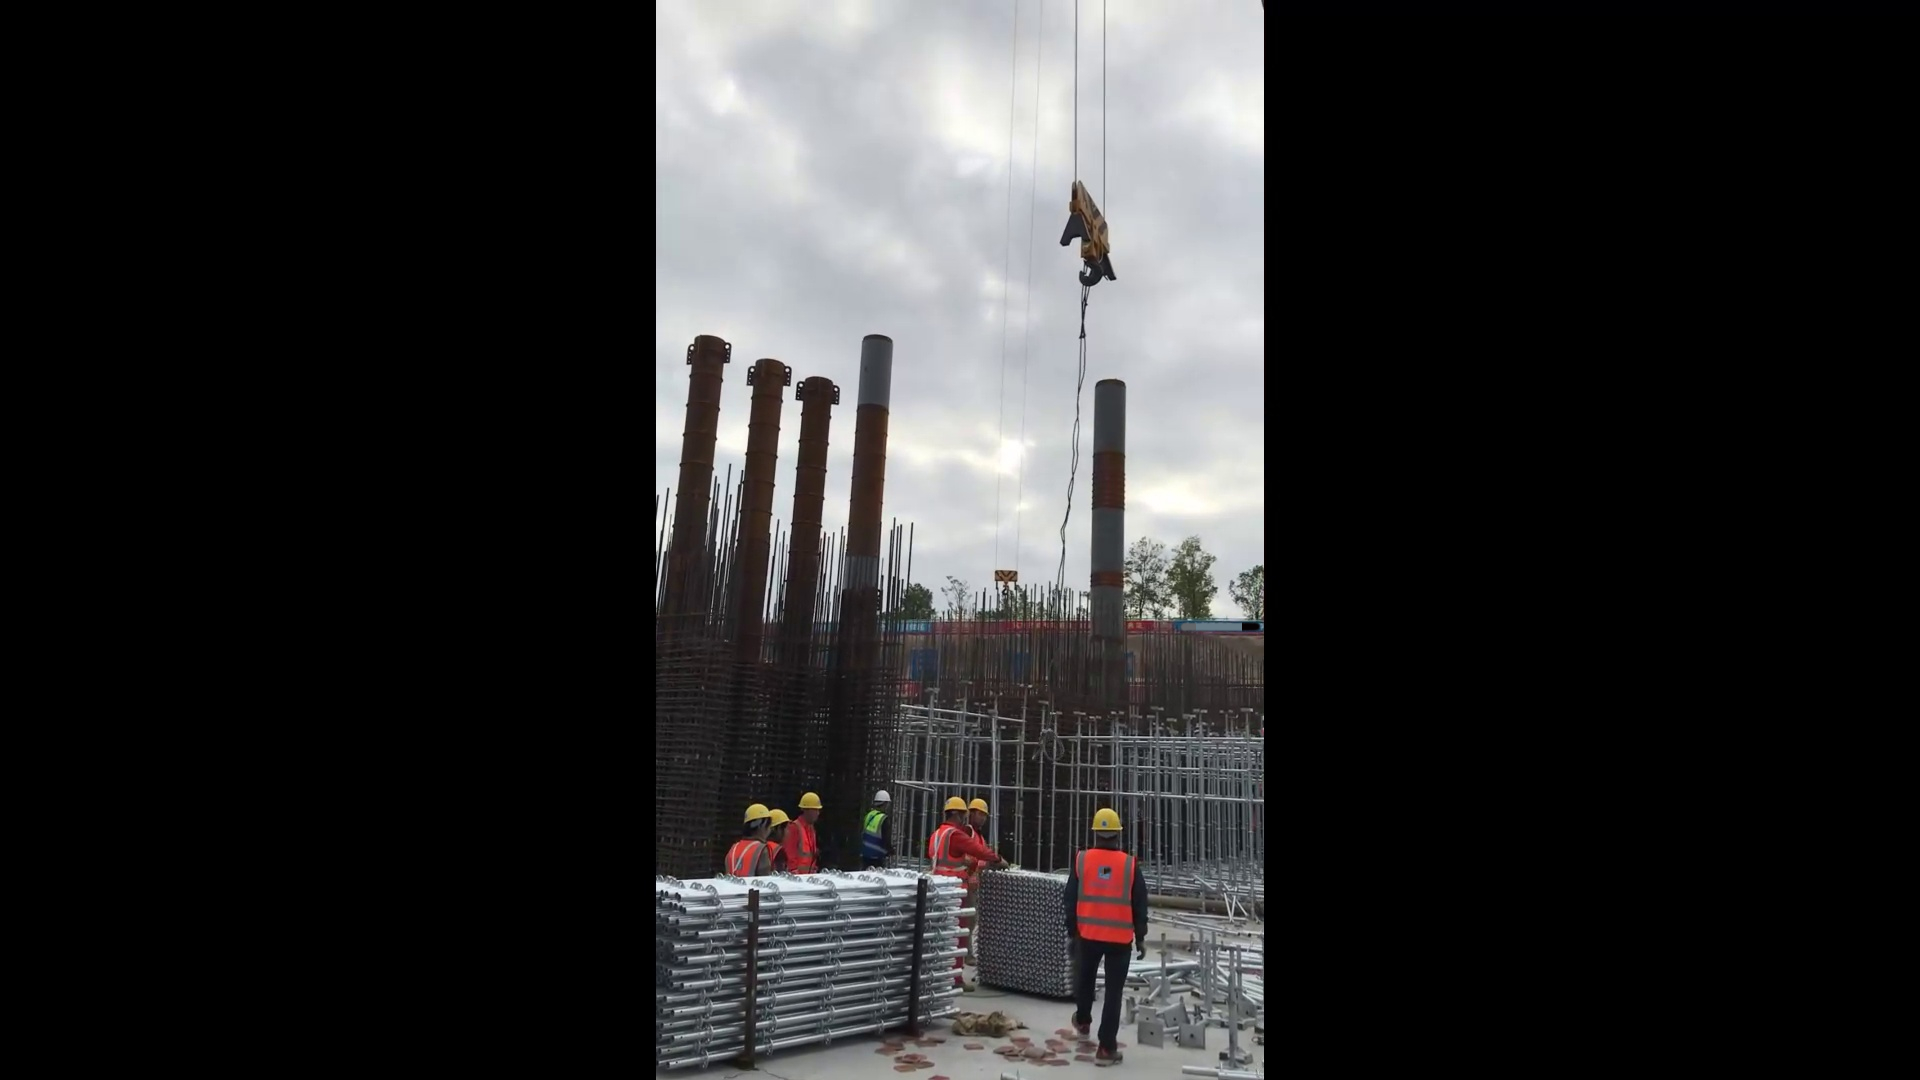helmet: (1090, 806, 1124, 835), (743, 802, 773, 827), (942, 795, 970, 815), (770, 806, 792, 830), (968, 796, 993, 818), (800, 791, 822, 812), (872, 787, 894, 804)
hook: (1059, 170, 1126, 307), (991, 568, 1020, 598)
person: (1065, 805, 1150, 1073), (927, 795, 1006, 880), (967, 797, 998, 966), (725, 802, 775, 876), (787, 791, 823, 875), (864, 787, 896, 869), (765, 806, 794, 876)
scaffold: (661, 871, 973, 1080), (980, 864, 1063, 1001)
vest: (1075, 845, 1138, 947), (924, 824, 977, 882), (726, 839, 775, 878), (789, 821, 821, 871), (863, 807, 892, 860)
